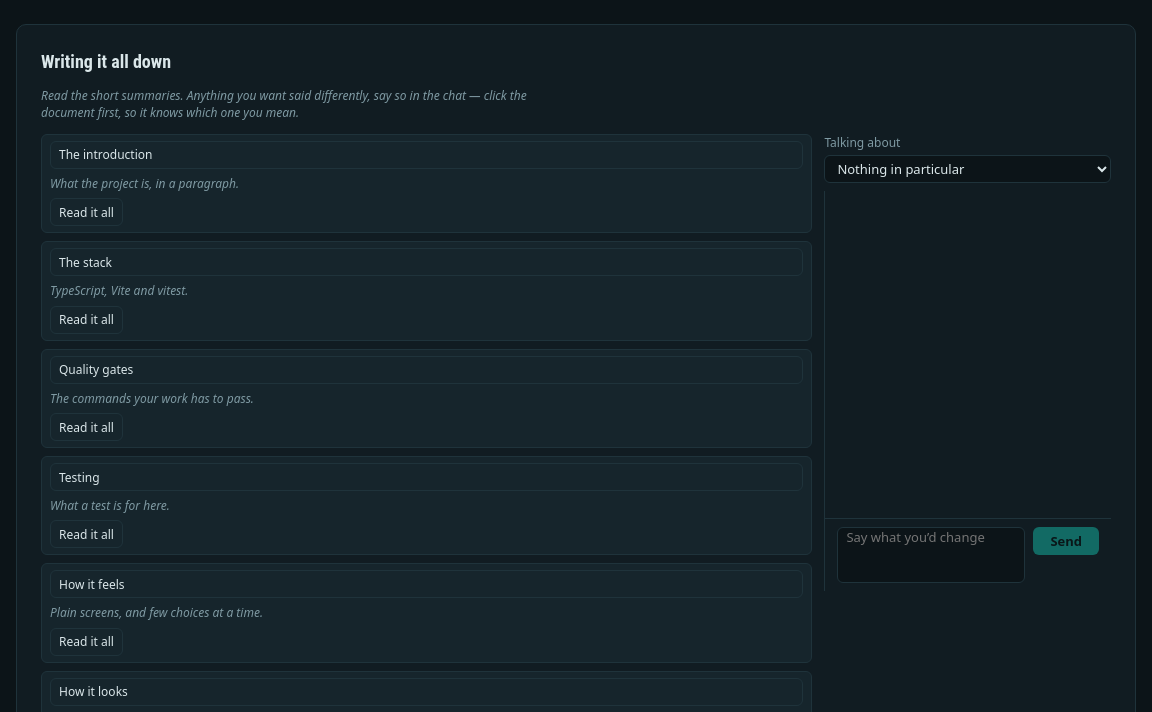
Test: the docs step › the review layout › sends what is typed beside the cards up the tab’s own socket
The width and height of the screenshot is (1152, 712).
Type "the testing one reads like a list of rules" into the text box with placeholder "Say what you’d change".
click(931, 555); type("the testing one reads like a list of rules")  # box [837,527,1025,583]
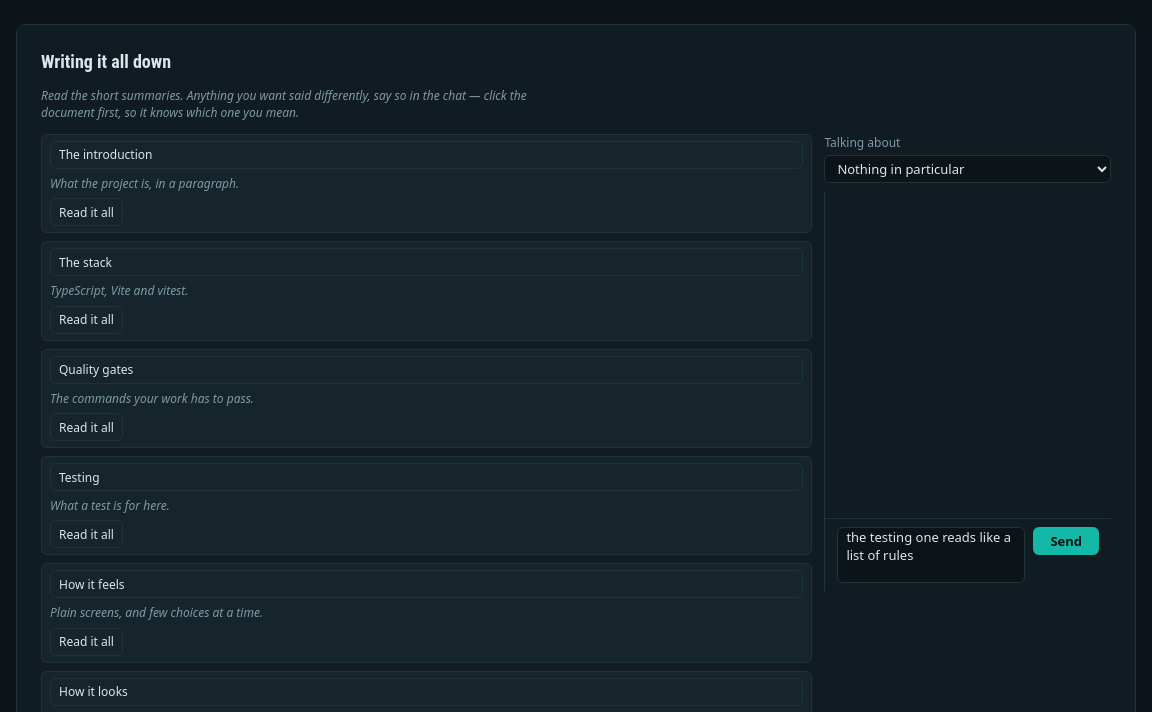
Click the button "Send".
click(1066, 541)  # box [1033,527,1099,555]
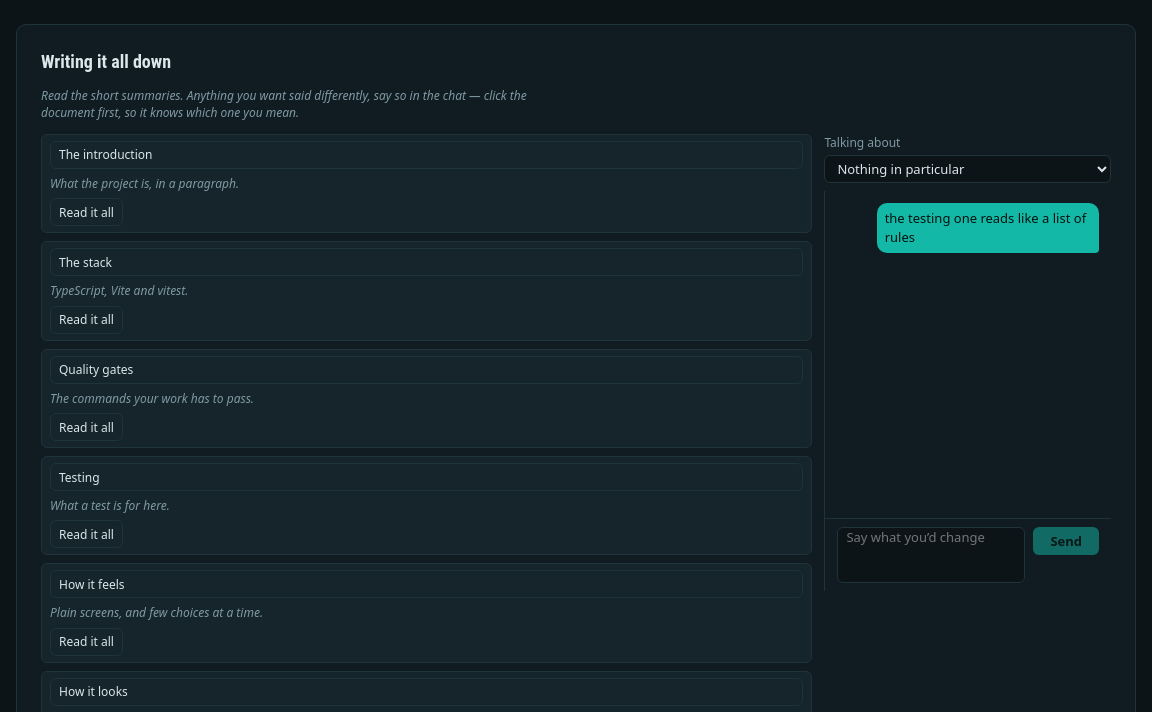
Now the text "the testing one reads like a list of rules" is shown, box [877,203,1099,253]
